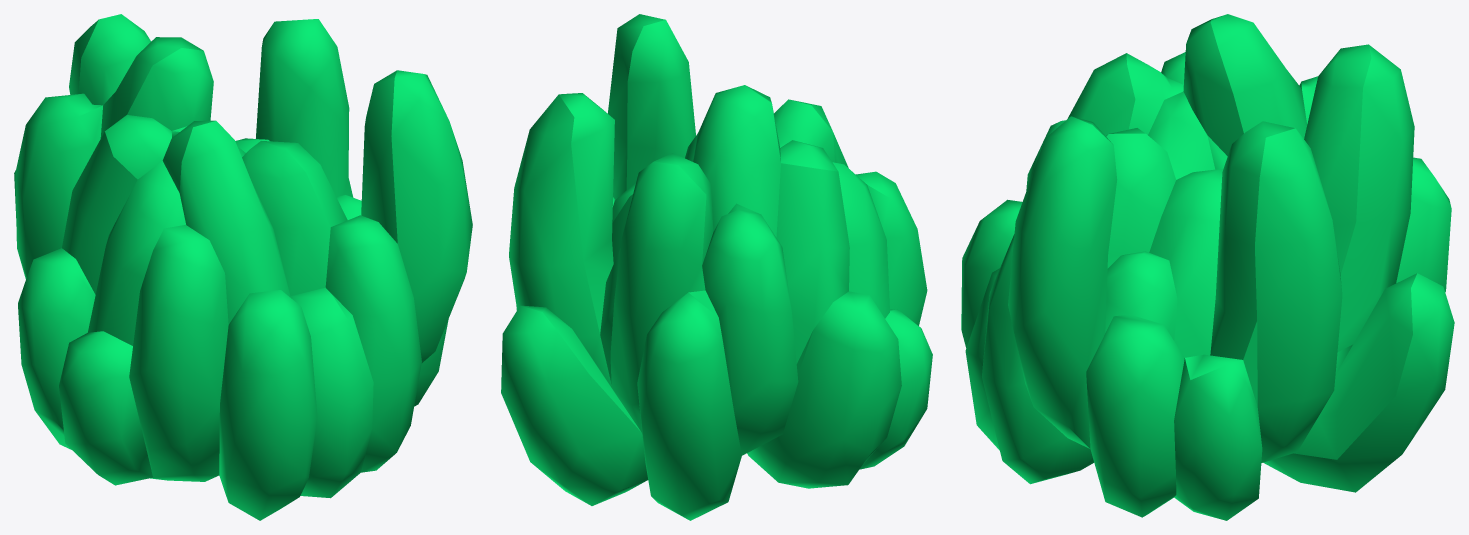
The model's file is obj_resource_refinedcoralium.fbx.
The picture shows the model from 3 angles, left to right: view 1: azimuth 30°, elevation 25°; view 2: azimuth 150°, elevation 25°; view 3: azimuth 270°, elevation 25°; orthographic projection. The views are drawn at different scales.
Visible parts, largest first — view 1: obj_resource_refinedcoralium.001; view 2: obj_resource_refinedcoralium.001; view 3: obj_resource_refinedcoralium.001.
Part boxes in pixels (x1,y1,x2,y2): obj_resource_refinedcoralium.001: (14, 14, 472, 520); obj_resource_refinedcoralium.001: (501, 14, 932, 520); obj_resource_refinedcoralium.001: (961, 14, 1454, 520).
Bounding box in the file's own units: 3.23 × 3.32 × 3.46.
